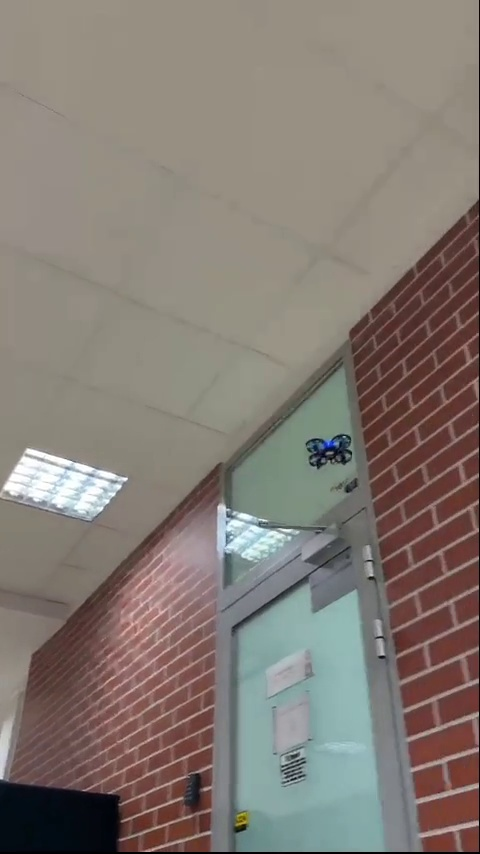drone: (303, 434, 357, 469)
